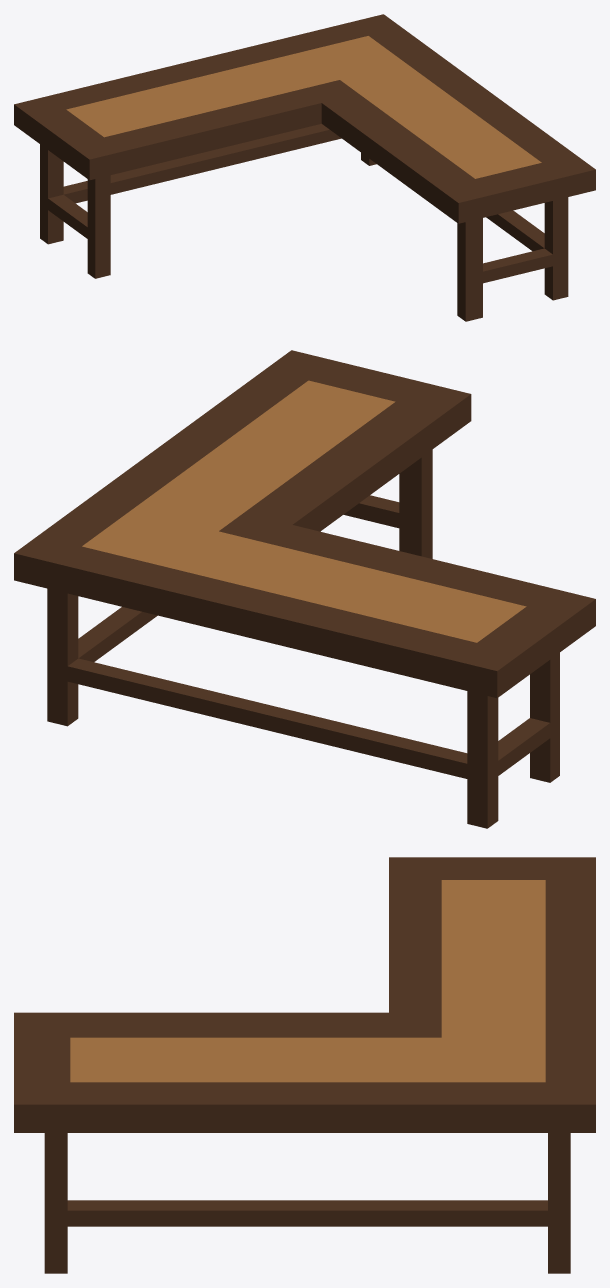
The model's file is L-Shaped Desk.fbx.
3 views of the same model, one above another, from view 1: azimuth 30°, elevation 25°; view 2: azimuth 150°, elevation 25°; view 3: azimuth 270°, elevation 25° (orthographic). The views are drawn at different scales.
Parts seen in each view (by area): view 1: L-Shaped Desk; view 2: L-Shaped Desk; view 3: L-Shaped Desk.
Part boxes in pixels (left/top/right/bottom): L-Shaped Desk: left=14, top=14, right=595, bottom=321; L-Shaped Desk: left=14, top=350, right=595, bottom=828; L-Shaped Desk: left=14, top=857, right=595, bottom=1273.
Bounding box in the file's own units: 2.43 × 0.8254 × 2.42.
